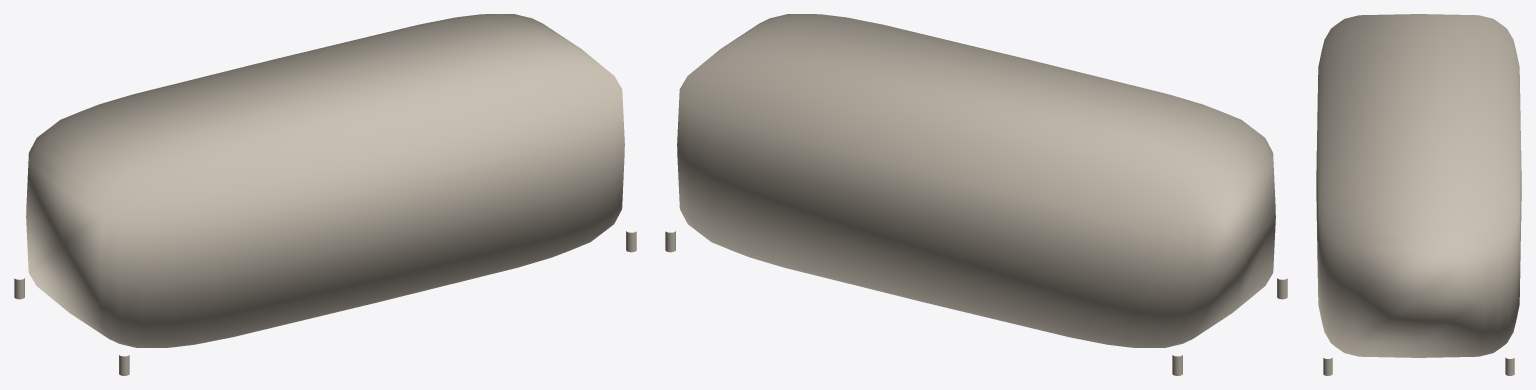
The model's file is ikea-stockholm-50498971-g2-proxy.glb.
The picture shows the model from 3 angles, left to right: view 1: azimuth 30°, elevation 25°; view 2: azimuth 150°, elevation 25°; view 3: azimuth 270°, elevation 25°; orthographic projection. The views are drawn at different scales.
Parts seen in each view (by area): view 1: proxy_body; view 2: proxy_body; view 3: proxy_body.
Boxes of the visible parts, box(x1,y1,x2,y2) form: proxy_body: box(26, 14, 624, 347); proxy_body: box(677, 14, 1275, 347); proxy_body: box(1316, 14, 1521, 357).
Size of the model in its own units: 2.28 by 0.76 by 0.88.
